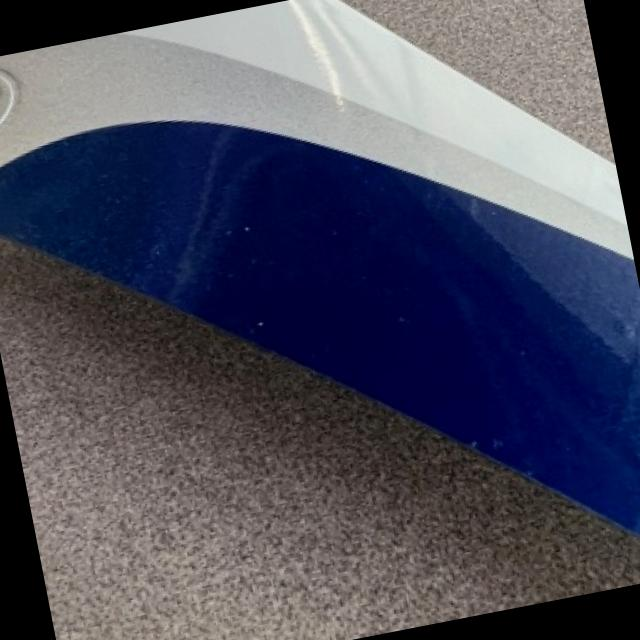healthy: (0, 236, 640, 640)
